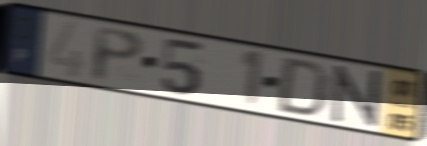1: (238, 48, 266, 110)
4: (46, 18, 88, 81)
5: (158, 35, 206, 98)
D: (273, 55, 333, 119)
N: (331, 64, 383, 130)
P: (91, 24, 147, 86)
